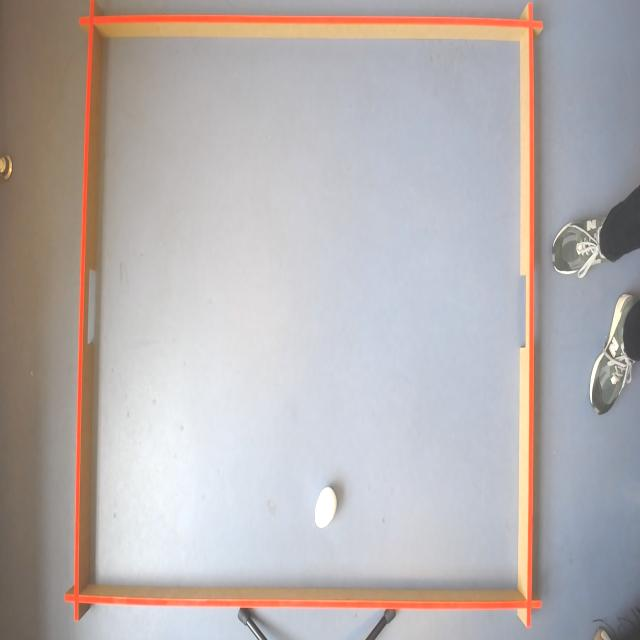egg: (314, 486, 337, 530)
